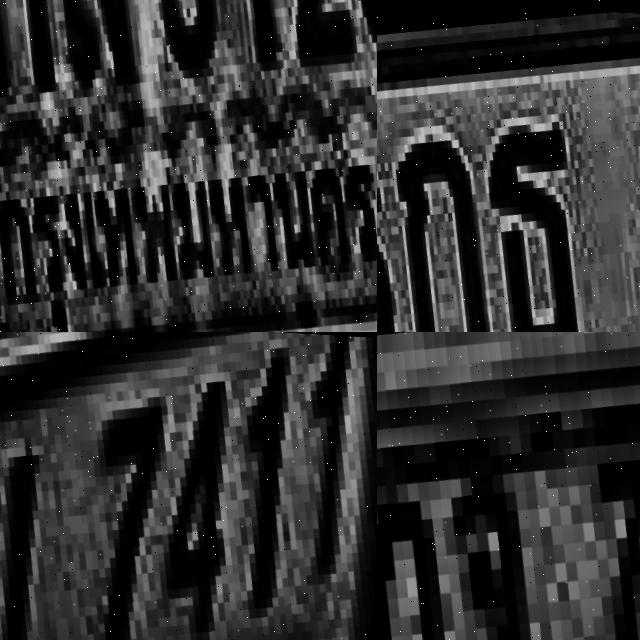license-plate: (0, 0, 377, 332), (0, 332, 377, 640), (377, 0, 640, 332), (377, 332, 640, 640)
